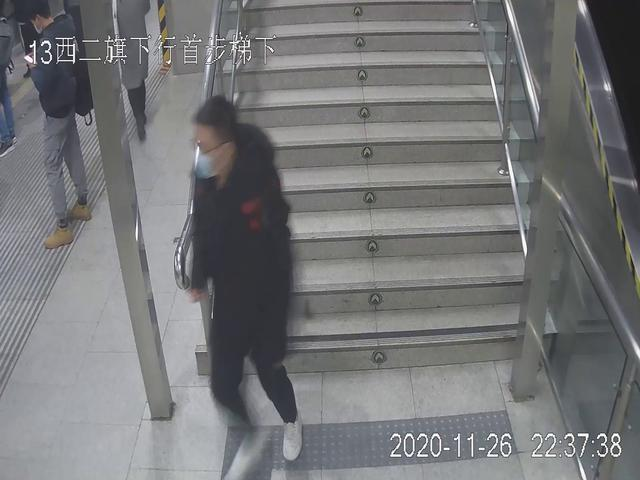person: (181, 92, 303, 480), (17, 1, 102, 253)
